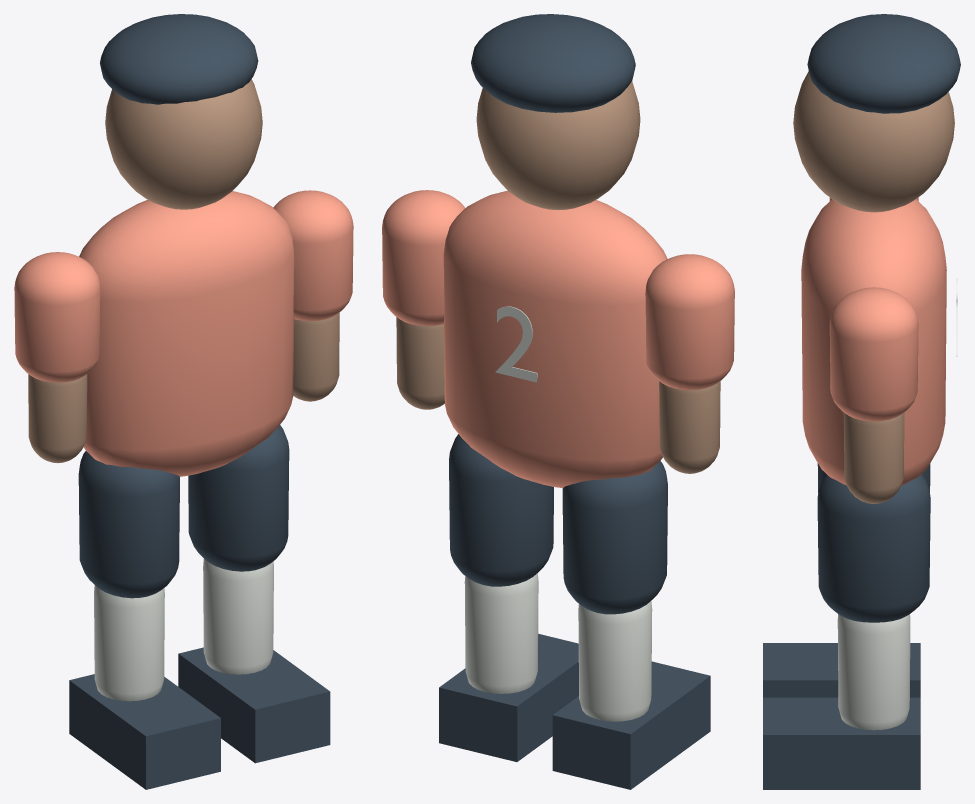
Rendered from Player_Coral.fbx.
The picture shows the model from 3 angles, left to right: view 1: azimuth 30°, elevation 25°; view 2: azimuth 150°, elevation 25°; view 3: azimuth 270°, elevation 25°; orthographic projection. The views are drawn at different scales.
Parts seen in each view (by area): view 1: Jersey, Head, Shorts_Left, Boot_Left, Hair, Boot_Right, Shorts_Right, Sleeve_Left, Sleeve_Right, Sock_Right, Sock_Left, Forearm_Left (+1 smaller); view 2: Jersey, Head, Shorts_Left, Hair, Shorts_Right, Boot_Left, Sleeve_Left, Boot_Right, Sleeve_Right, Sock_Left, Sock_Right, Forearm_Left (+2 smaller); view 3: Jersey, Head, Shorts_Right, Boot_Right, Hair, Sleeve_Right, Sock_Right, Forearm_Right, Boot_Left.
Boxes of the visible parts, x1,y1,x2,y2 form: Jersey: (79, 191, 294, 476); Head: (105, 79, 262, 209); Shorts_Left: (78, 451, 179, 598); Boot_Left: (69, 674, 220, 789); Hair: (100, 14, 258, 104); Boot_Right: (178, 647, 330, 763); Shorts_Right: (188, 425, 289, 571); Sleeve_Left: (14, 252, 100, 382); Sleeve_Right: (273, 190, 353, 320); Sock_Right: (203, 558, 273, 674); Sock_Left: (94, 585, 164, 701); Forearm_Left: (28, 374, 87, 463); Jersey: (443, 190, 667, 487); Head: (476, 81, 640, 209); Shorts_Left: (562, 461, 667, 614); Hair: (471, 14, 635, 112); Shorts_Right: (449, 434, 553, 586); Boot_Left: (552, 661, 710, 789); Sleeve_Left: (645, 254, 734, 390); Boot_Right: (439, 633, 578, 761); Sleeve_Right: (382, 190, 465, 325); Sock_Left: (578, 601, 652, 721); Sock_Right: (464, 573, 538, 693); Forearm_Left: (659, 381, 720, 473); Jersey: (801, 199, 946, 485); Head: (793, 71, 954, 212); Shorts_Right: (817, 474, 930, 622); Boot_Right: (763, 697, 920, 789); Hair: (807, 14, 960, 113); Sleeve_Right: (829, 287, 918, 421); Sock_Right: (837, 614, 910, 730); Forearm_Right: (843, 413, 904, 503); Boot_Left: (763, 643, 920, 697).
Size of the model in its own units: 96 by 195 by 49.
